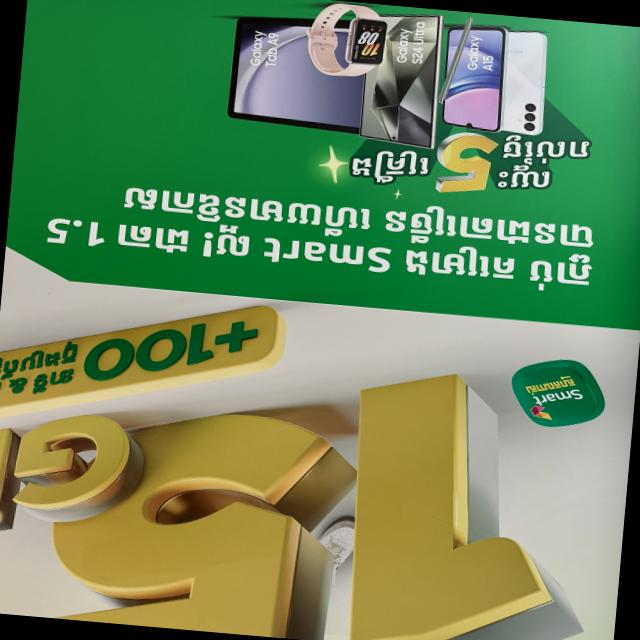1: (113, 179, 604, 251)
152: (329, 123, 601, 198)
9: (41, 206, 605, 299)
Yolov11kh: (519, 372, 581, 395)
